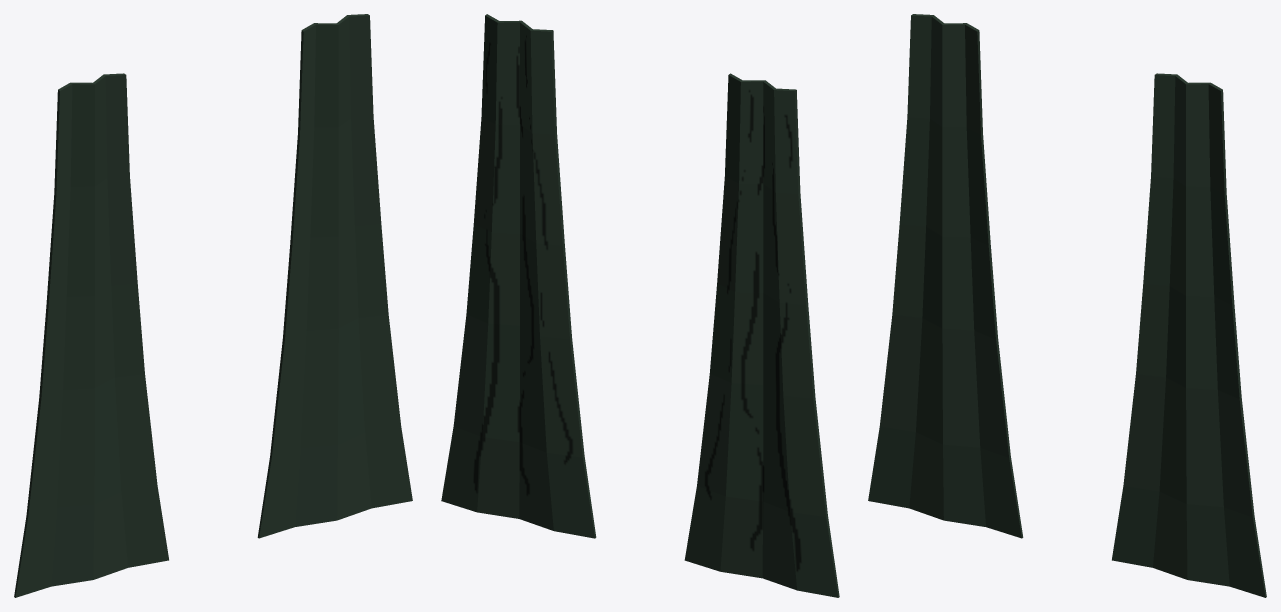
Rendered from Curtains.fbx.
The picture shows the model from 3 angles, left to right: view 1: azimuth 30°, elevation 25°; view 2: azimuth 150°, elevation 25°; view 3: azimuth 330°, elevation 25°; orthographic projection.
Visible parts, largest first — view 1: Curtain; view 2: Curtain; view 3: Curtain.
Boxes of the visible parts, x1=… form: Curtain: x1=14, y1=14, x2=412, y2=597; Curtain: x1=441, y1=14, x2=839, y2=597; Curtain: x1=868, y1=14, x2=1266, y2=597.
Bounding box in the file's own units: 51.72 × 61.76 × 1.83.
